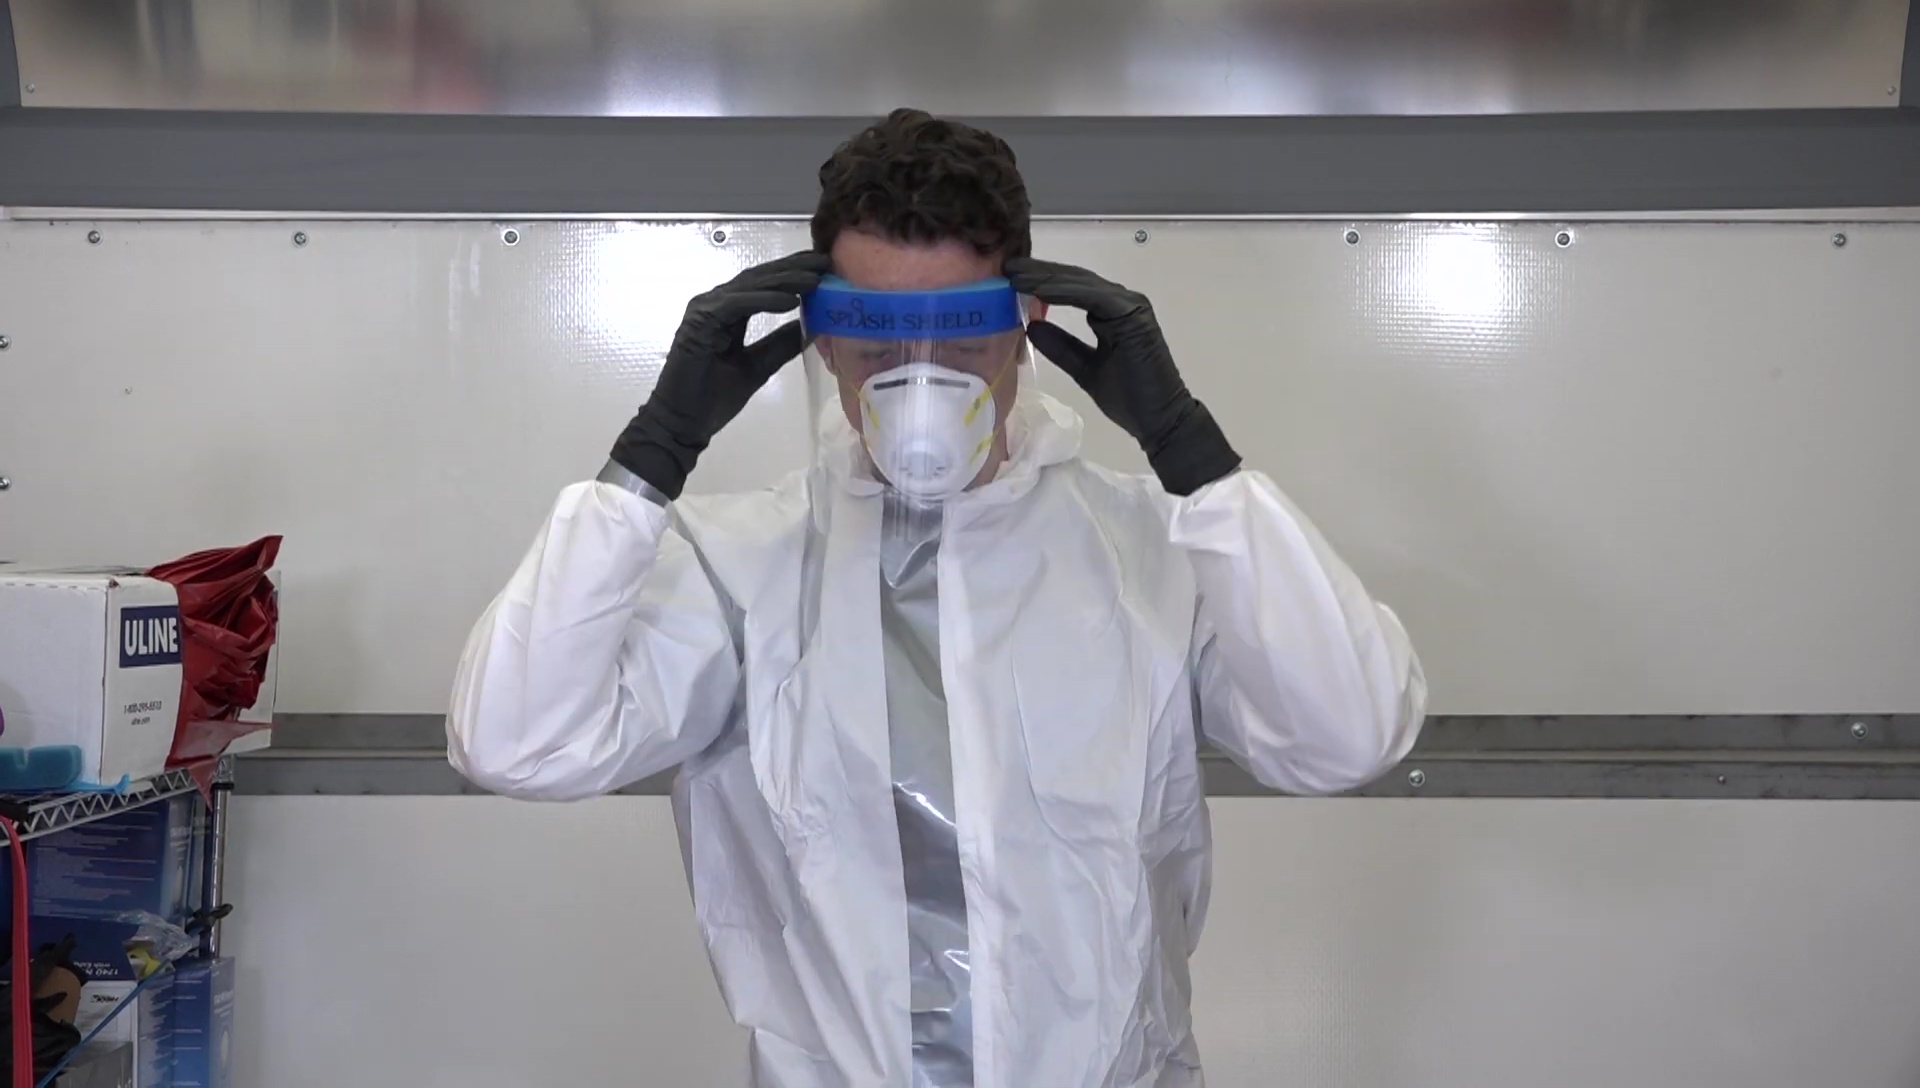Coverall: (443, 463, 1433, 1087)
Face_Shield: (791, 274, 1052, 553)
Gloves: (1002, 255, 1243, 498), (610, 250, 828, 499)
with_mask: (842, 309, 1011, 501)
